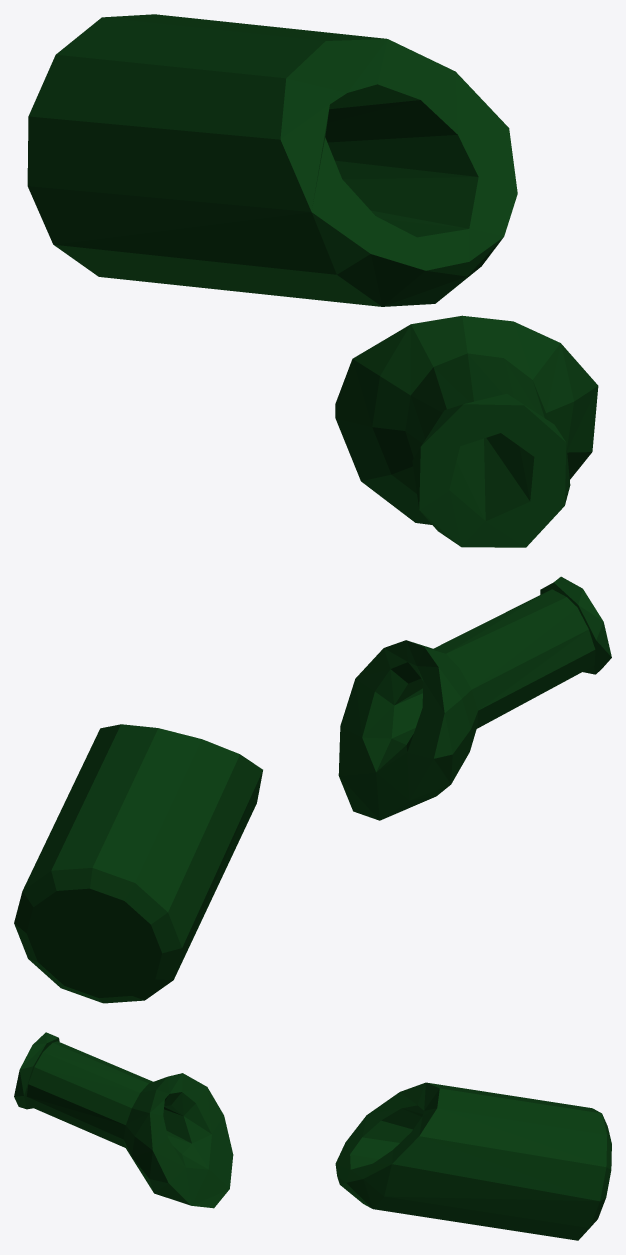
Rendered from bouteille2.fbx.
3 renders of one model, top to bottom at view 1: azimuth 30°, elevation 25°; view 2: azimuth 150°, elevation 25°; view 3: azimuth 270°, elevation 25°, orthographic. The views are drawn at different scales.
Parts seen in each view (by area): view 1: bouteille.001, bouteille.002; view 2: bouteille.001, bouteille.002; view 3: bouteille.001, bouteille.002.
Part boxes in pixels (bbox=[...]): bouteille.001: bbox=[27, 14, 517, 306]; bouteille.002: bbox=[335, 315, 598, 547]; bouteille.001: bbox=[14, 724, 262, 1003]; bouteille.002: bbox=[338, 576, 611, 820]; bouteille.001: bbox=[335, 1082, 611, 1240]; bouteille.002: bbox=[14, 1032, 233, 1208].
Size of the model in its own units: 102 by 70.88 by 243.
